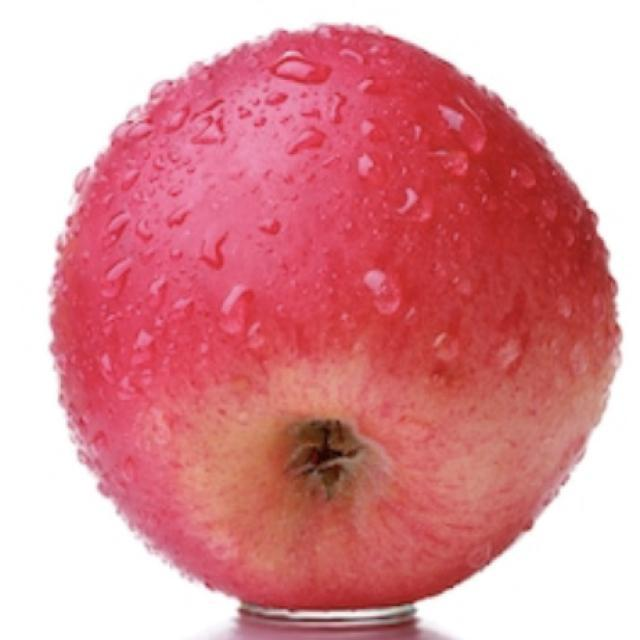Apple: (46, 20, 623, 621)
